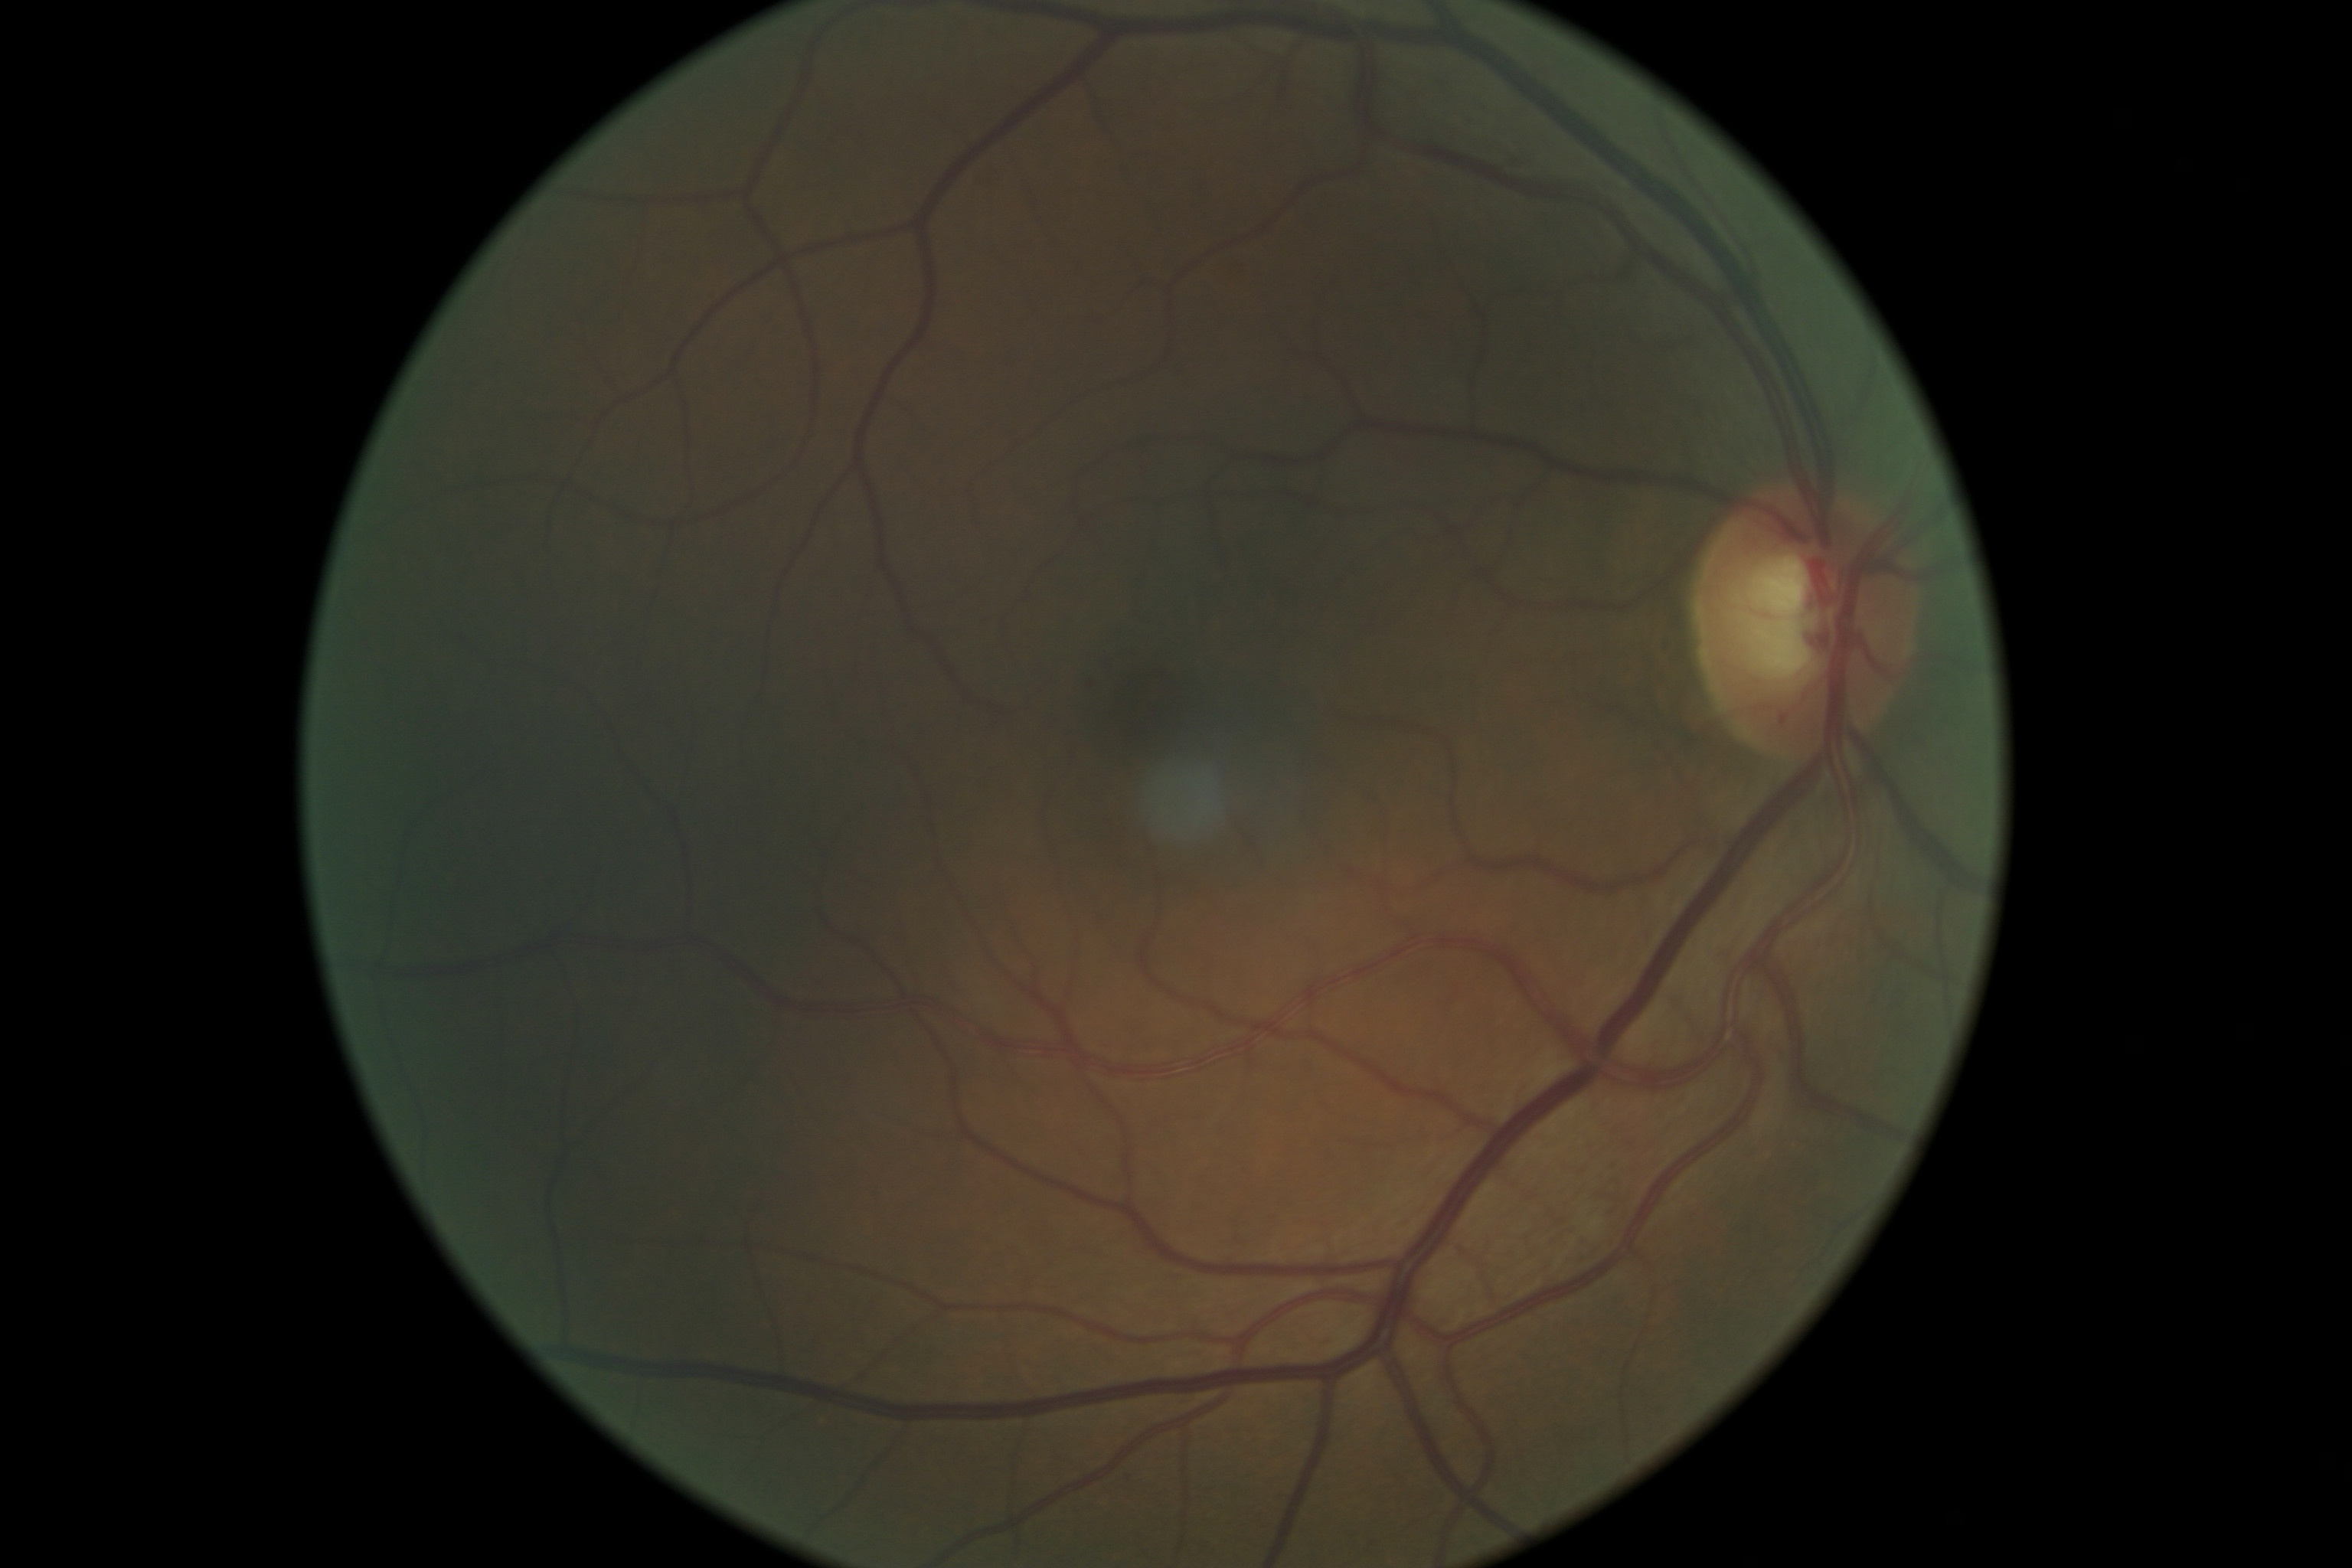Fovea: (1067, 637, 1256, 817)
OD: (1668, 472, 1948, 784)
